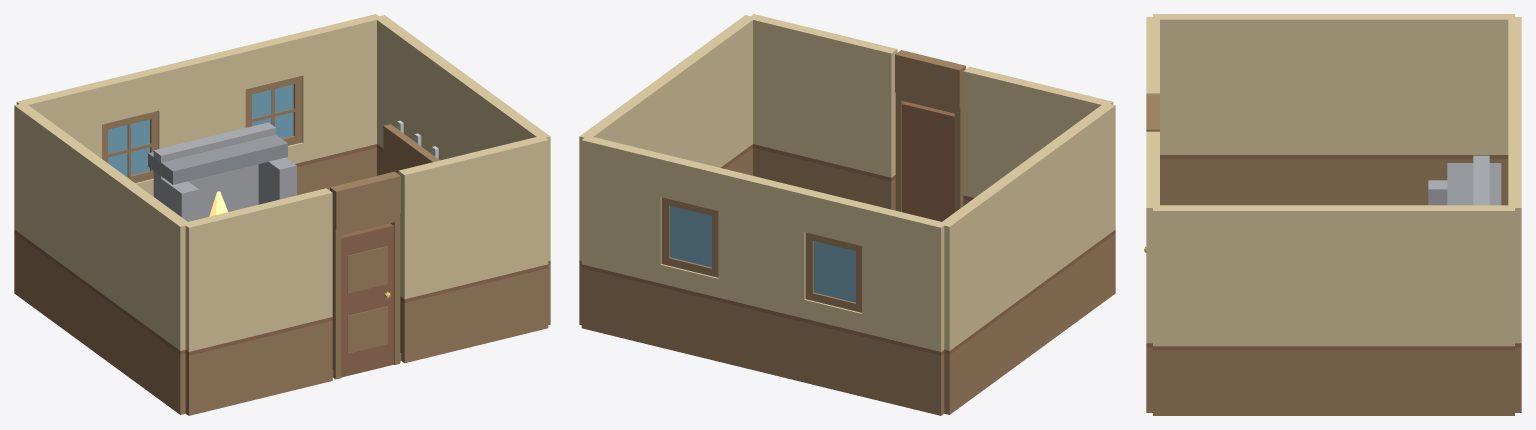
Rendered from blacksmith_hall_interior.glb.
3 renders of one model, left to right at view 1: azimuth 30°, elevation 25°; view 2: azimuth 150°, elevation 25°; view 3: azimuth 270°, elevation 25°, orthographic. The views are drawn at different scales.
Parts seen in each view (by area): view 1: floor_slab; view 2: floor_slab; view 3: floor_slab.
Boxes of the visible parts, x1,y1,x2,y2 form: floor_slab: (14, 14, 550, 415); floor_slab: (579, 14, 1115, 415); floor_slab: (1144, 14, 1521, 415).
Size of the model in its own units: 5.15 by 2.5 by 4.17.
